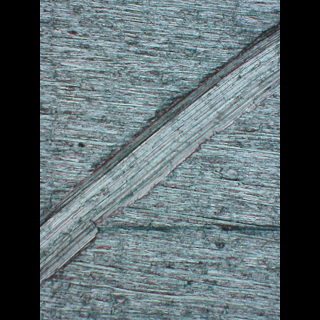d: (40, 19, 279, 290)
